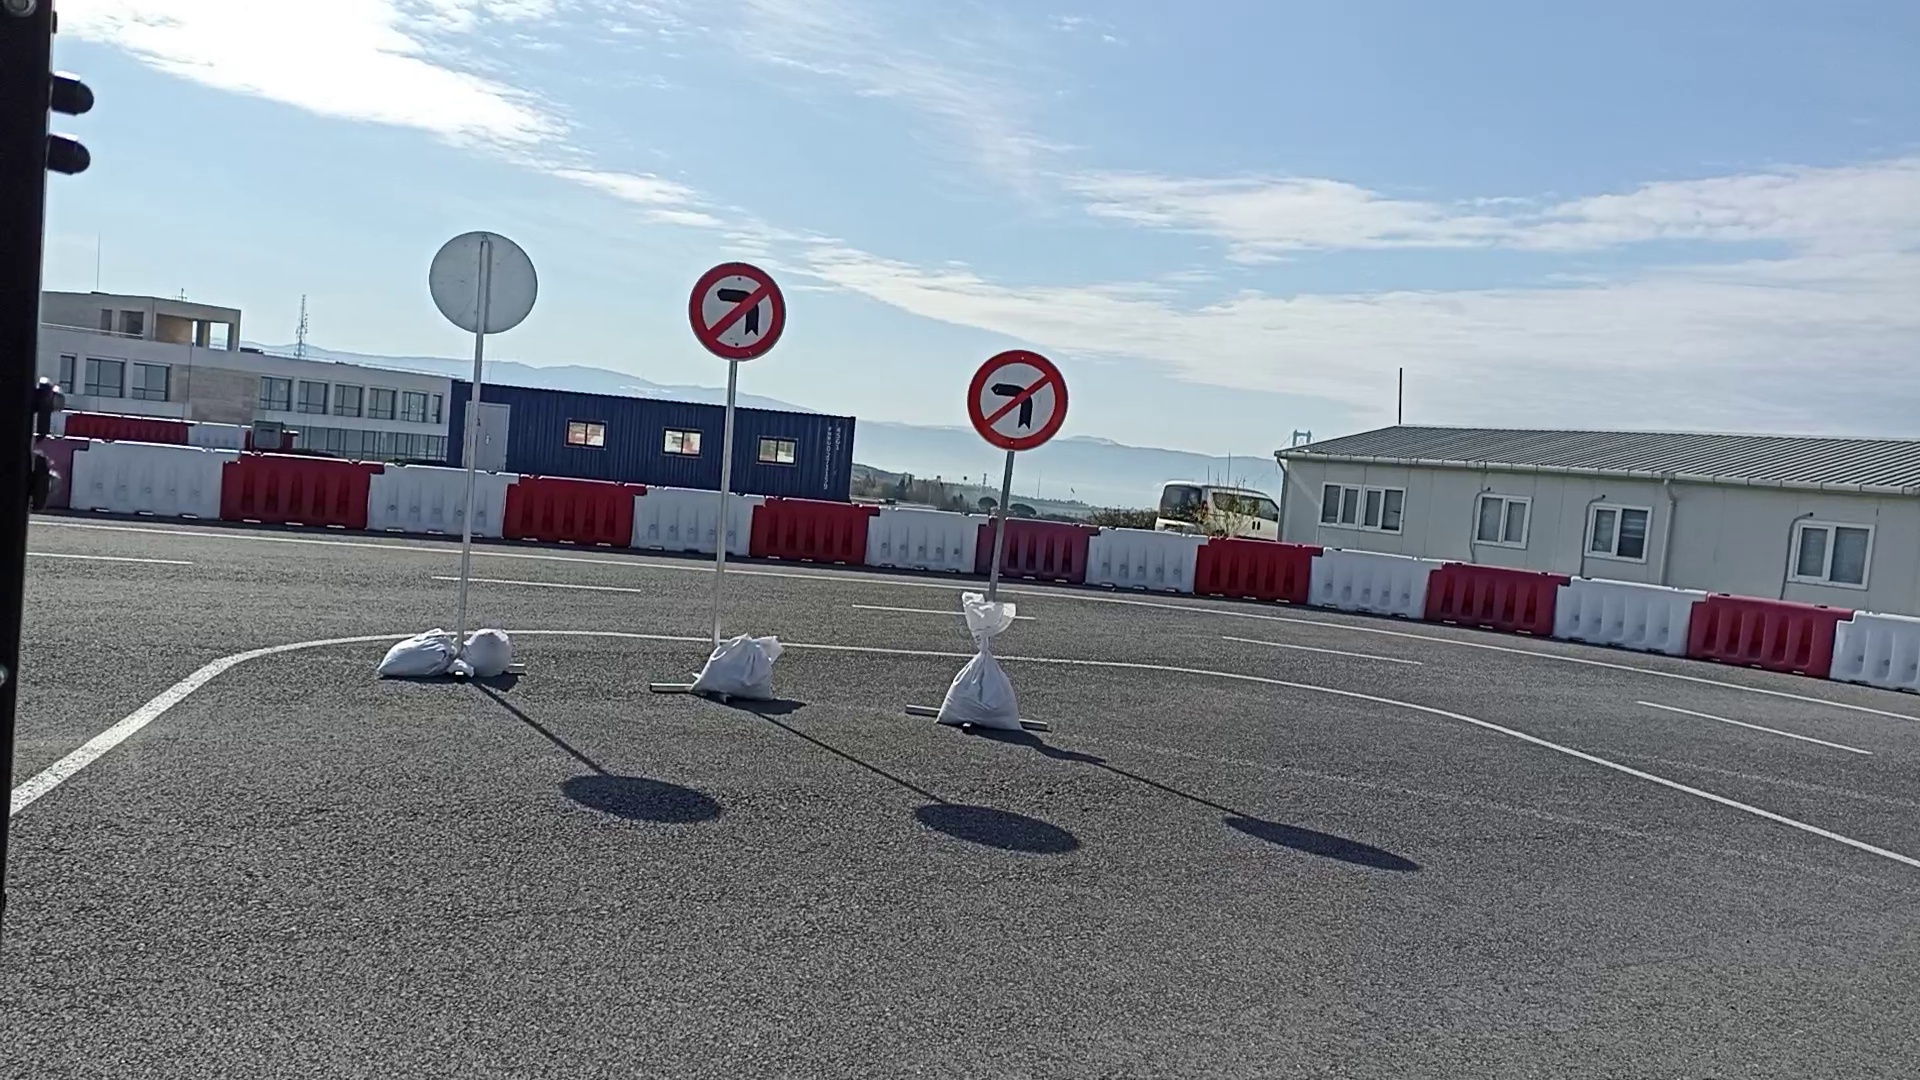noleft: (964, 348, 1069, 452), (688, 260, 787, 363)
